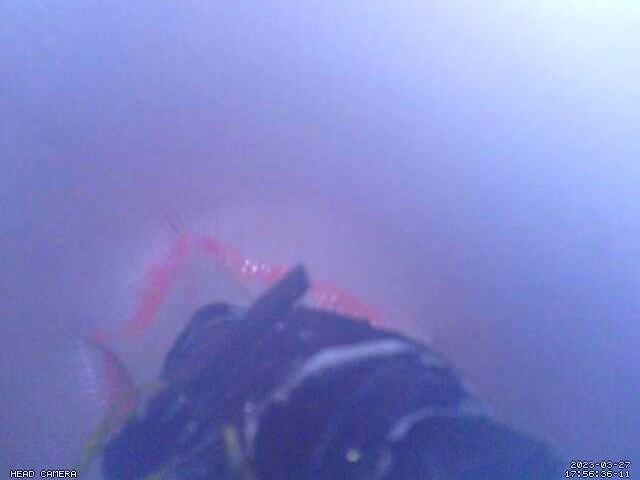head: (87, 233, 387, 415)
